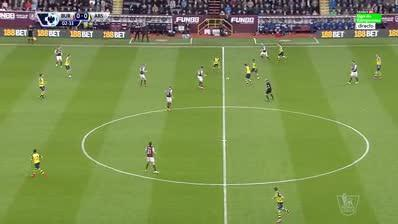futbol: (224, 75, 231, 82)
player: (269, 184, 295, 223), (141, 140, 160, 176), (28, 146, 48, 180), (162, 84, 178, 115), (135, 61, 150, 90), (347, 59, 362, 87), (36, 72, 49, 101), (372, 53, 385, 82), (194, 64, 207, 92), (64, 51, 75, 82), (53, 44, 64, 71), (242, 62, 253, 89), (274, 43, 288, 64), (211, 54, 224, 76), (251, 57, 261, 81), (259, 42, 271, 62)
referree: (263, 77, 277, 104)
